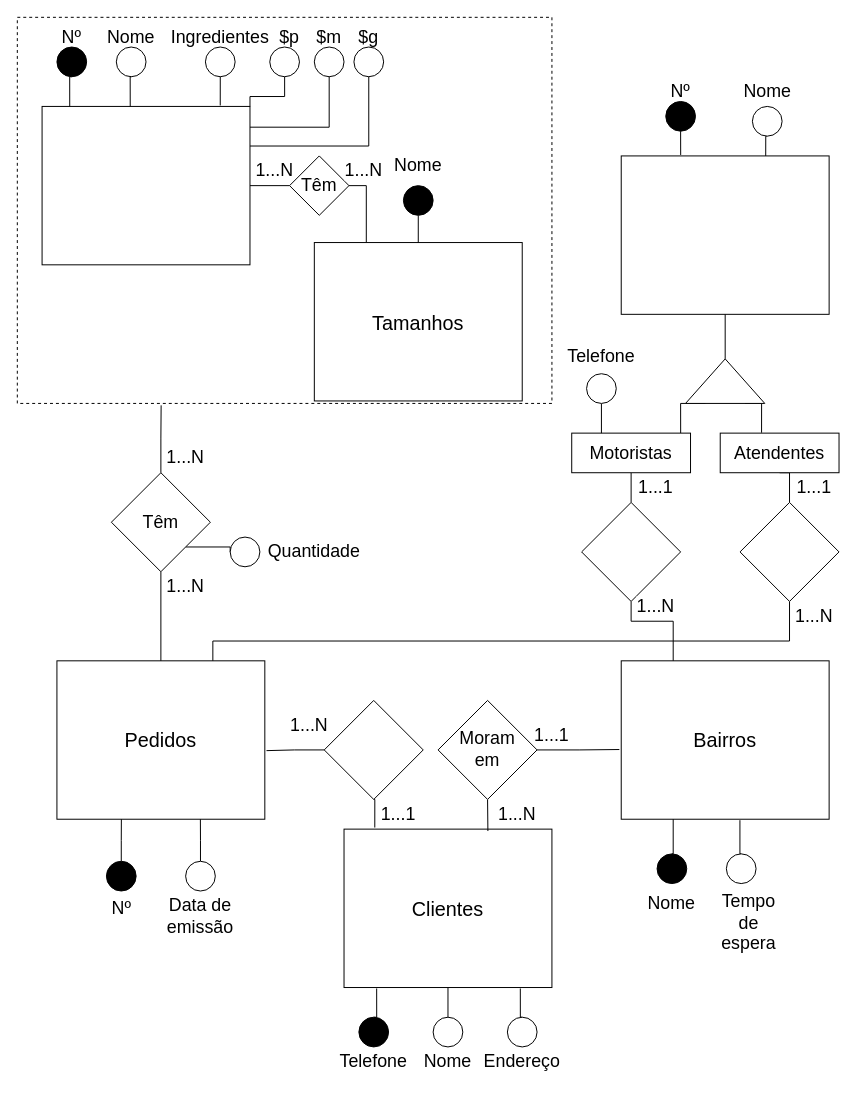
The diagram is 856 pixels wide and 1094 high, and some of its shapes have lost their labels. The centre of each missing label's shape, as x and y in pixels:
"Emitem" belongs at point (789, 551).
"Entregam" belongs at point (631, 551).
"Fazem" belongs at point (373, 749).
"Funcionários" belongs at point (724, 234).
"Pizzas" belongs at point (145, 185).
